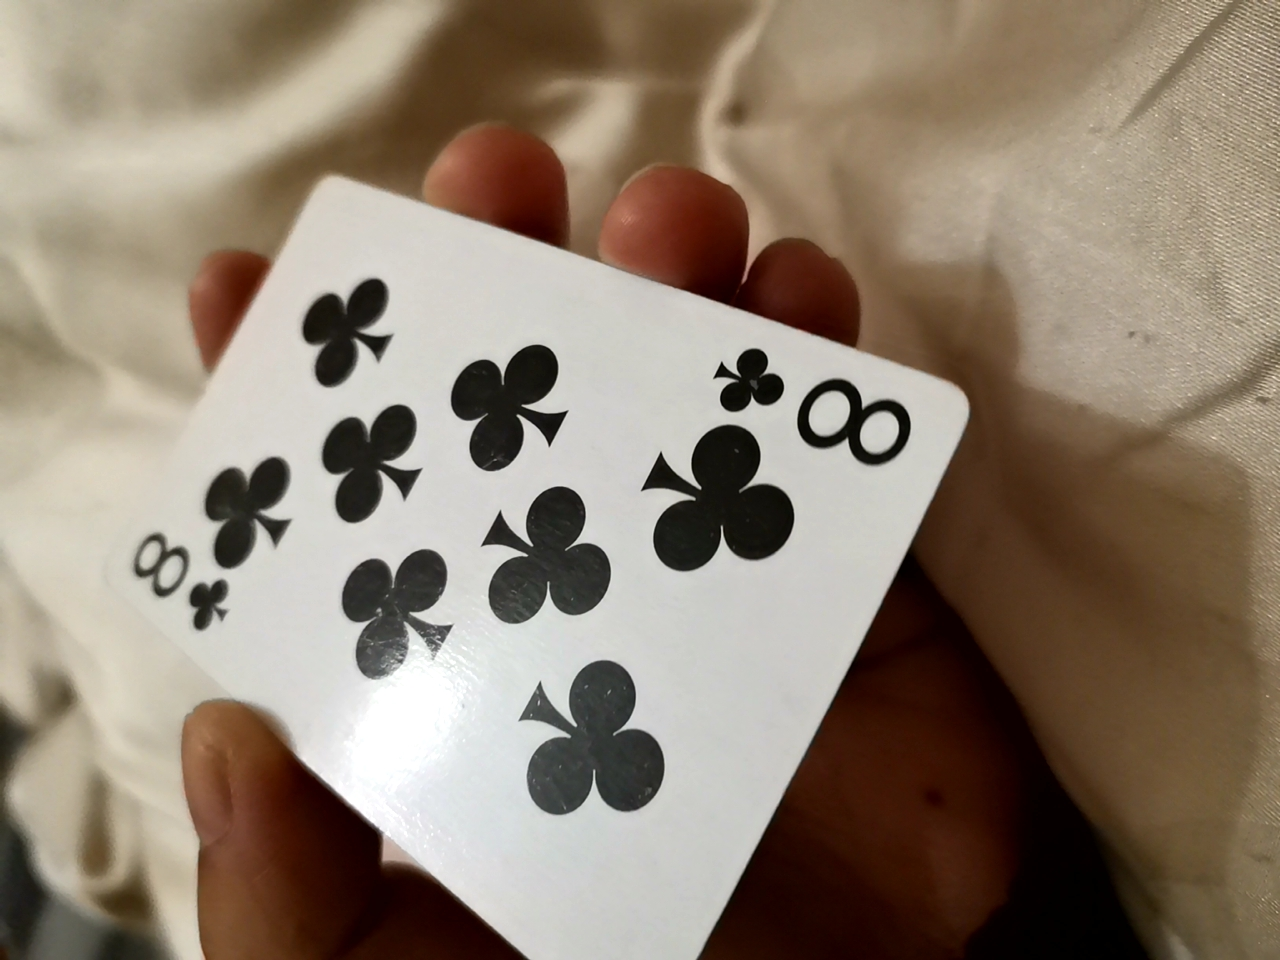mh 8: (81, 174, 1000, 950)
